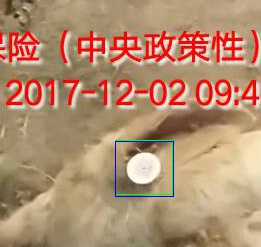text: (115, 140, 172, 194)
